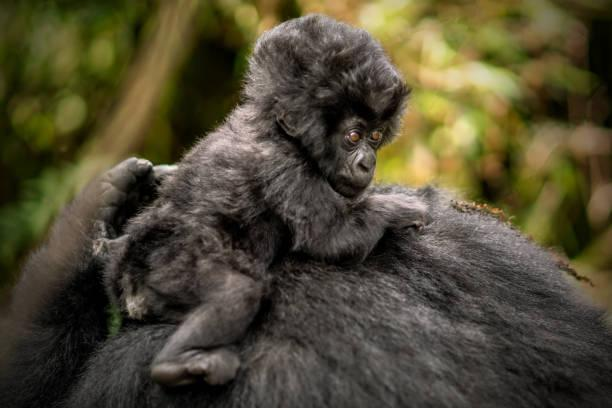goriile_montagne: (68, 11, 439, 328)
